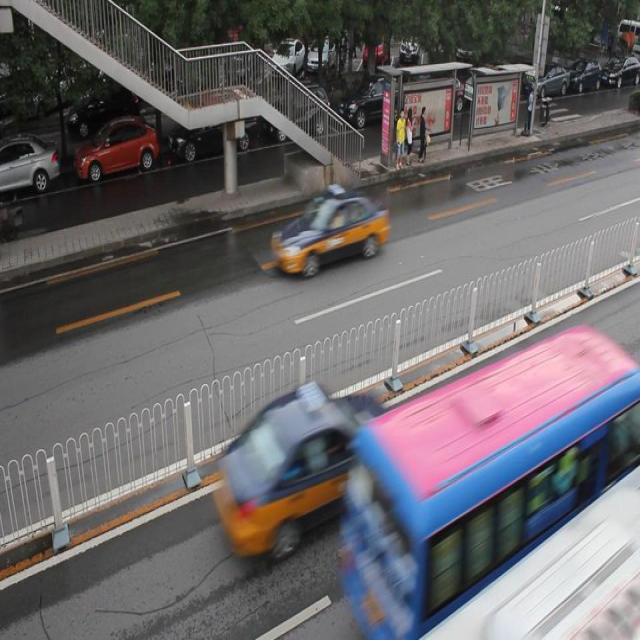car: (216, 382, 392, 551), (272, 187, 388, 279), (75, 117, 157, 184), (166, 104, 256, 160), (339, 69, 409, 130), (266, 86, 330, 140), (1, 136, 58, 196)
van: (341, 325, 640, 633), (414, 467, 640, 640)
